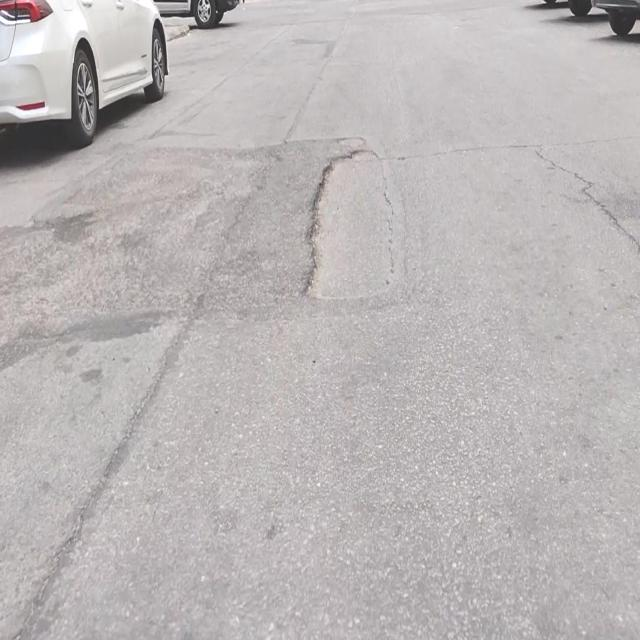Potholes: (304, 144, 396, 302)
